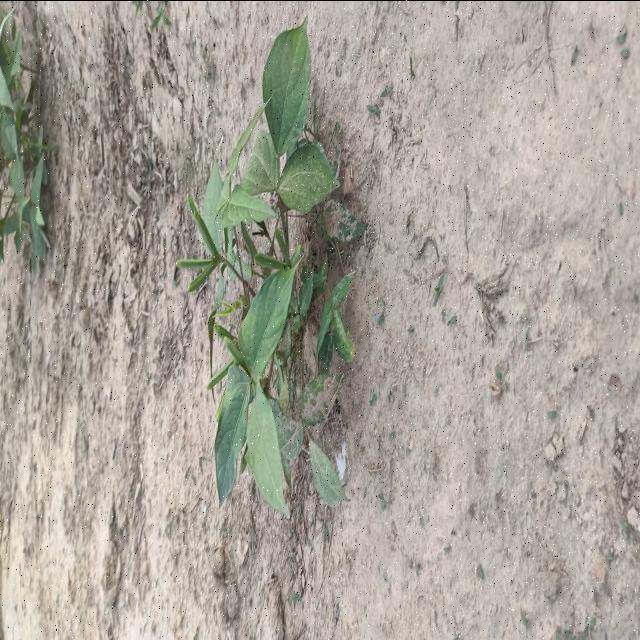plant: (176, 21, 354, 516)
